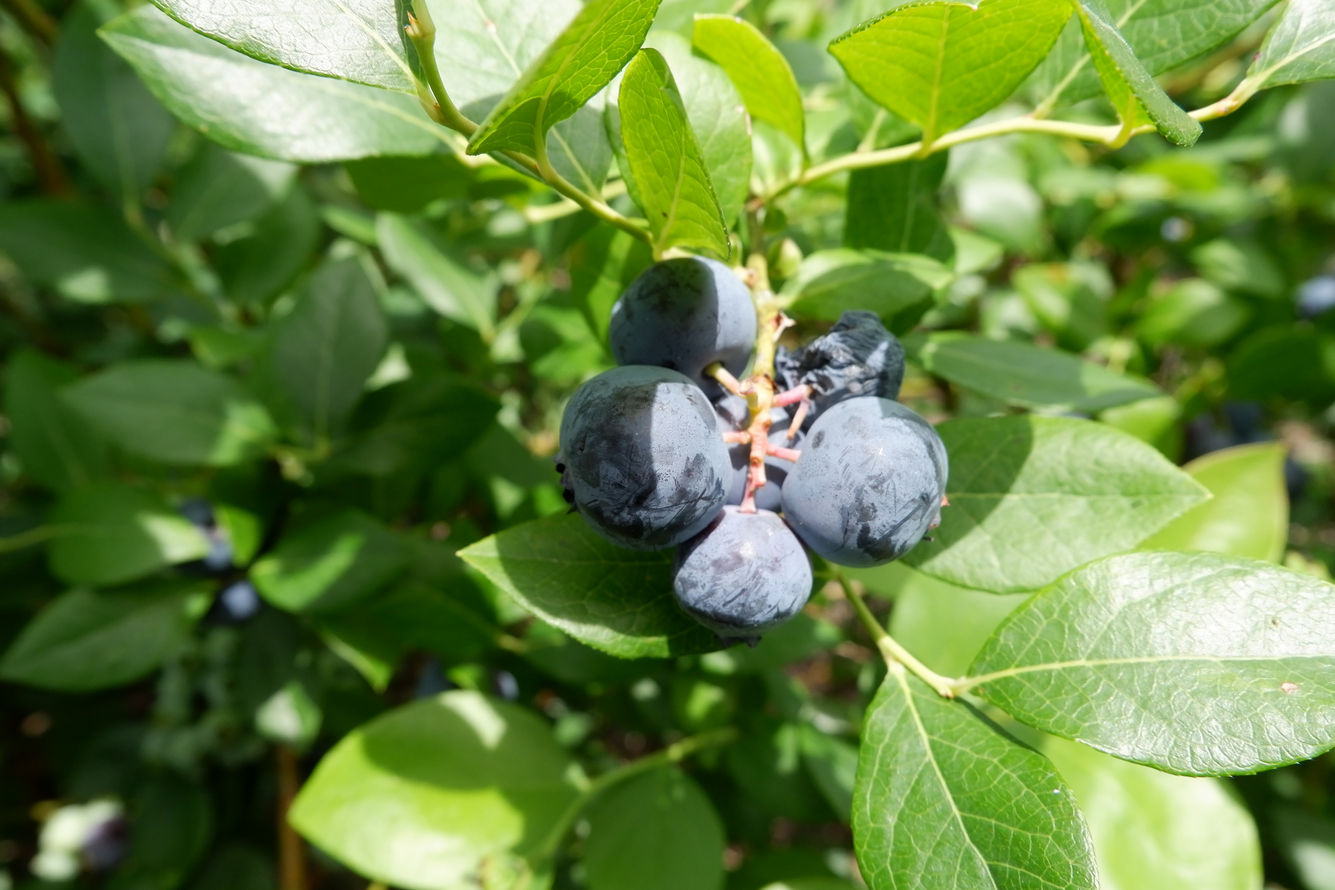Mature: (558, 369, 733, 546), (785, 396, 949, 564), (612, 258, 752, 397), (675, 510, 811, 647), (777, 311, 903, 429), (714, 392, 808, 511)
